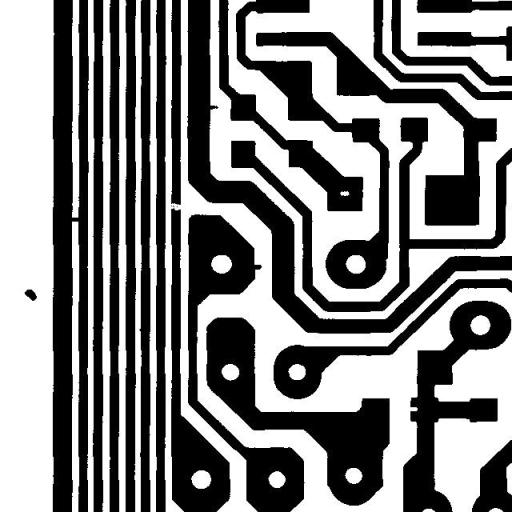copper: (17, 282, 44, 308)
mousebite: (398, 400, 425, 418)
open: (161, 195, 191, 218)
pin-hole: (332, 183, 357, 203)
short: (62, 210, 88, 228)
spur: (243, 256, 269, 278), (200, 98, 226, 116)
